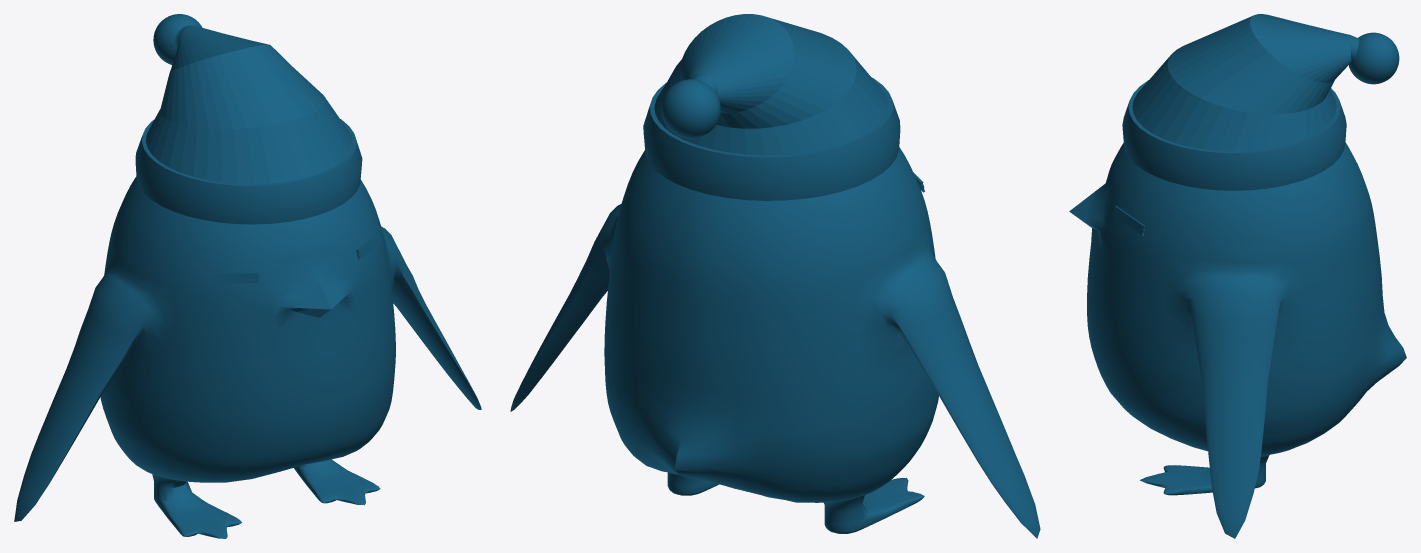
The model's file is penguin_blue_idle_25f.fbx.
3 views of the same model, side by side, from view 1: azimuth 30°, elevation 25°; view 2: azimuth 150°, elevation 25°; view 3: azimuth 270°, elevation 25° (orthographic). The views are drawn at different scales.
Visible parts, largest first — view 1: ppp_25, bousi, ai; view 2: ppp_25, bousi; view 3: ppp_25, bousi.
Boxes of the visible parts, box(x1,y1,x2,y2) form: ppp_25: box(14, 177, 481, 538); bousi: box(135, 14, 362, 224); ai: box(206, 233, 381, 284); ppp_25: box(510, 147, 1040, 538); bousi: box(643, 14, 900, 200); ppp_25: box(1069, 142, 1406, 538); bousi: box(1122, 14, 1399, 190).
Bounding box in the file's own units: 22.51 × 20.11 × 14.35.
Materials: 1 (1 with a texture image).
